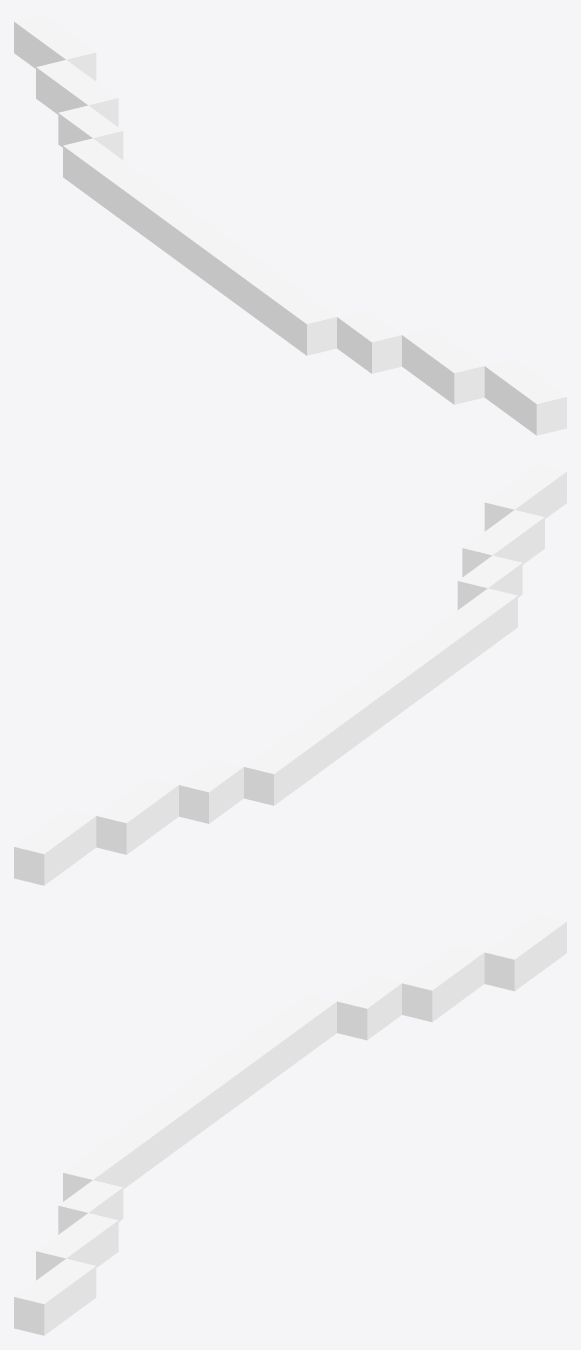
3 renders of one model, top to bottom at view 1: azimuth 30°, elevation 25°; view 2: azimuth 150°, elevation 25°; view 3: azimuth 330°, elevation 25°, orthographic.
Parts seen in each view (by area): view 1: Object; view 2: Object; view 3: Object.
Boxes of the visible parts, x1,y1,x2,y2 form: Object: (14,14,566,435); Object: (14,464,566,885); Object: (14,914,566,1335).
Size of the model in its own units: 4 by 1 by 30.
Materials: 1 (1 with a texture image).
